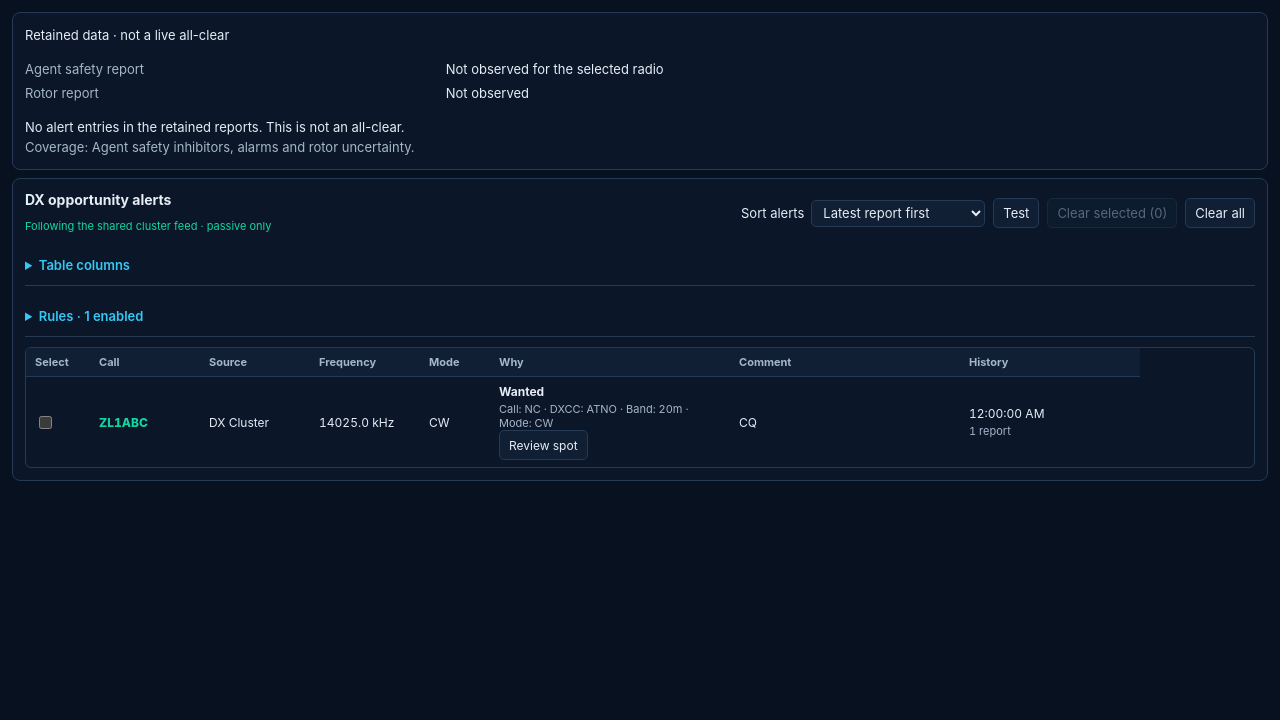
Scenario: keeps historical or expired evidence reviewable without tune authority
Click the button "Review spot" at (543, 446), box [499,430,588,460]
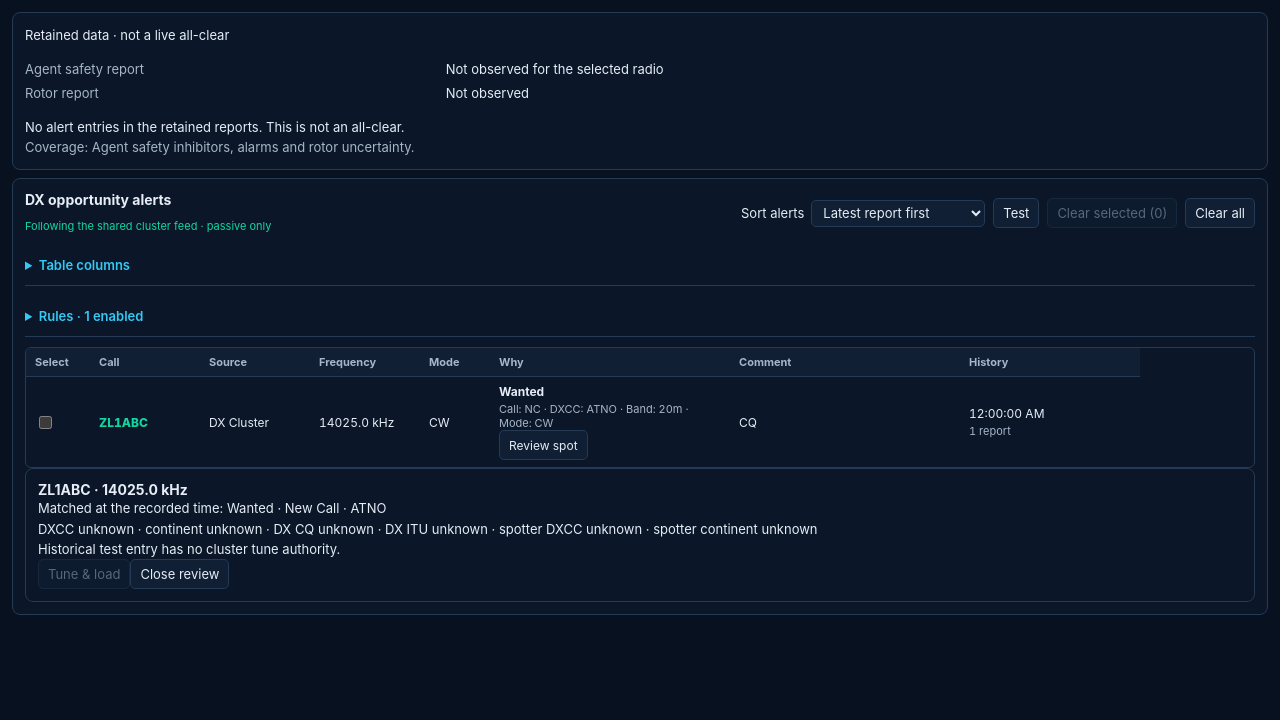
Check: the text "Historical test entry has no cluster tune authority." is shown, box [38,541,340,557]
Check: the button "Tune & load" is disabled, box [38,559,130,589]
